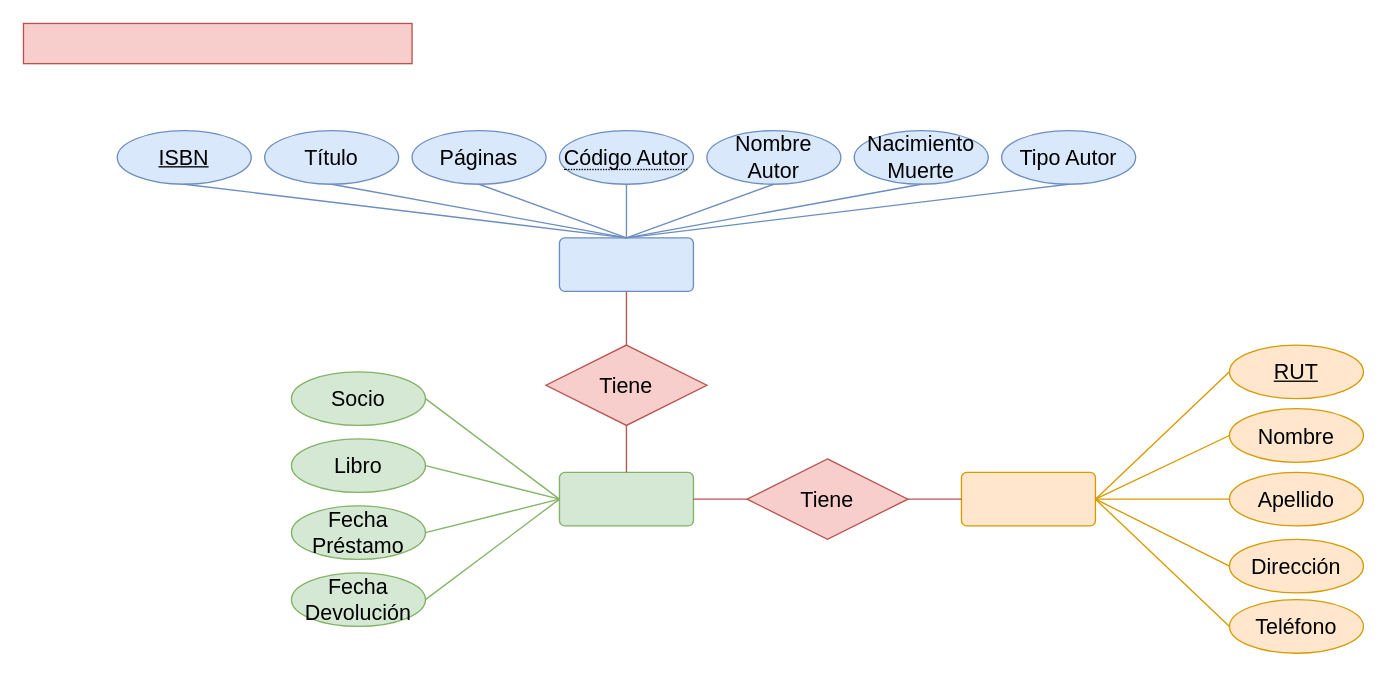
Some shapes in this 1387 by 677 pixel diagram are drawn without their labels. Each missing label, with the centre of its shape:
"Biblioteca - Modelo conceptual" goes at (217,43).
"Historial de Préstamos" goes at (625,498).
"Libros" goes at (625,264).
"Socios" goes at (1027,498).
